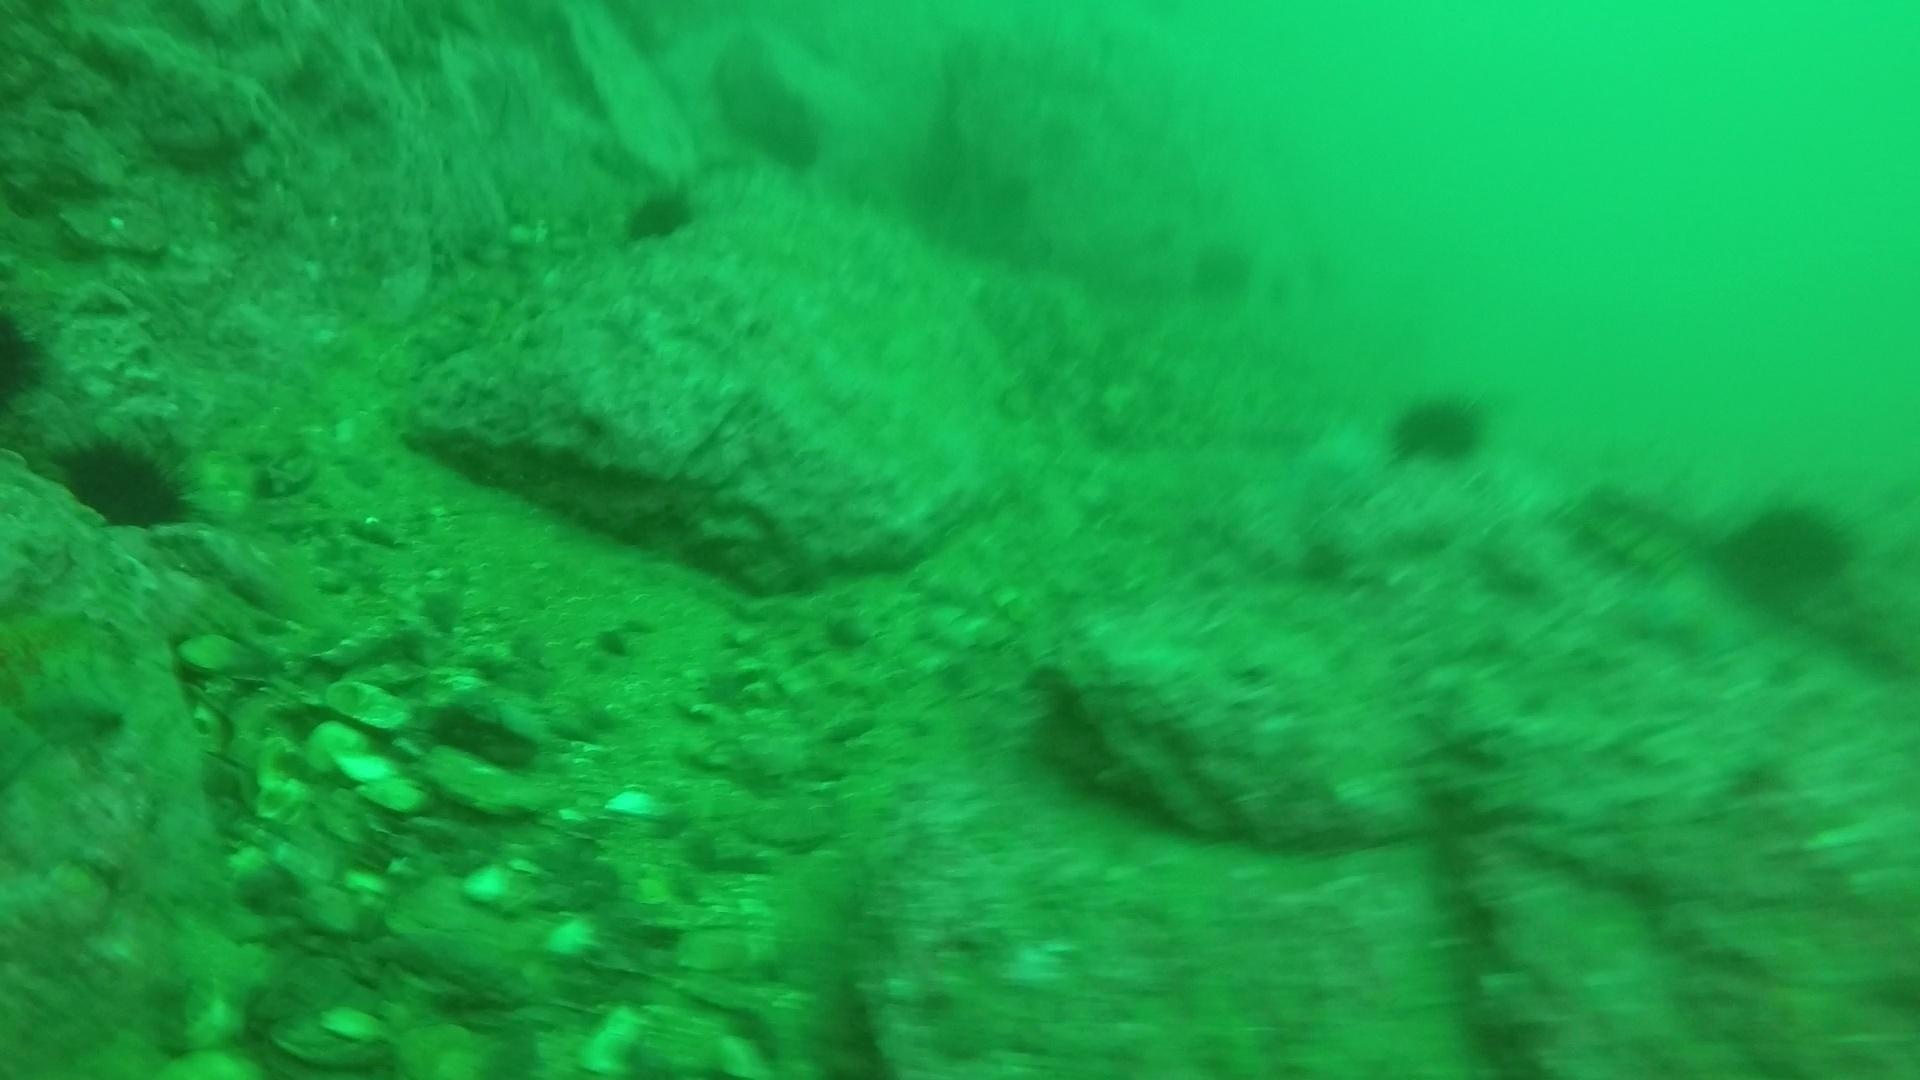echinus: (49, 425, 202, 535), (1714, 491, 1859, 605), (1383, 382, 1493, 469), (738, 80, 829, 175), (617, 177, 702, 251), (0, 305, 54, 414), (1184, 231, 1261, 306)
starfish: (1, 596, 135, 748), (1625, 556, 1767, 665)
